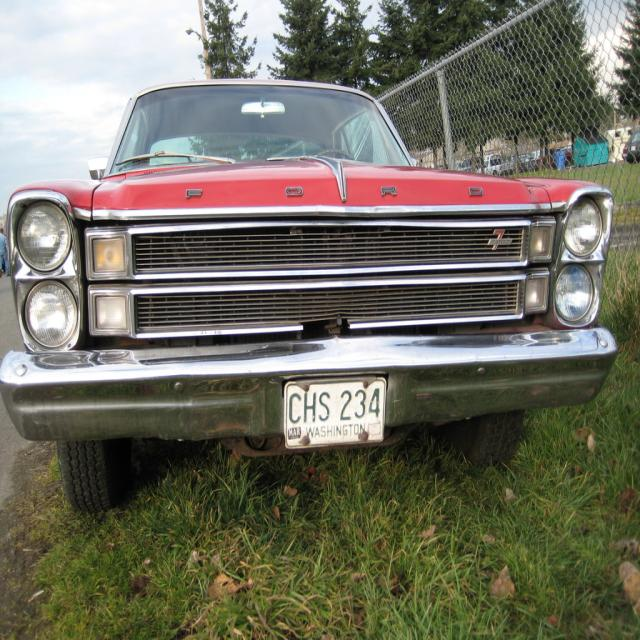car: (0, 78, 616, 517)
